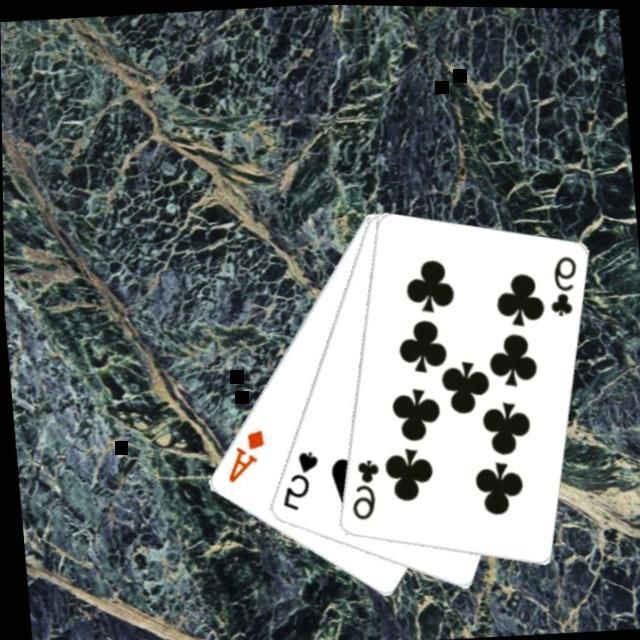5S: (274, 448, 324, 516)
9C: (343, 456, 385, 524), (543, 252, 583, 320)
AD: (219, 426, 269, 487)
